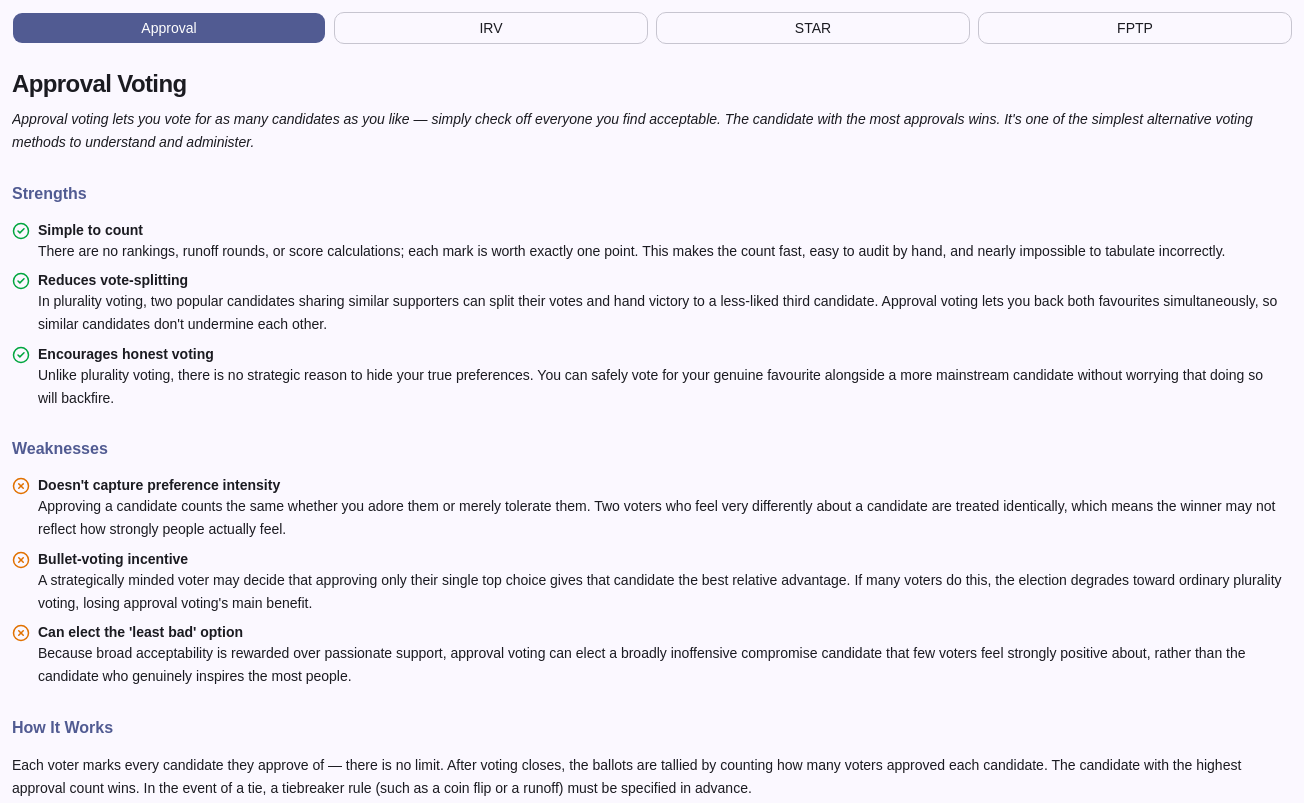
Test: #112 FPTP tab and deep linking › still self-manages the tab when embedded without props
Expected: the heading "Approval Voting" is shown, [12,70,187,97]
Click the tab "FPTP": (1135, 28) [978,12,1292,44]
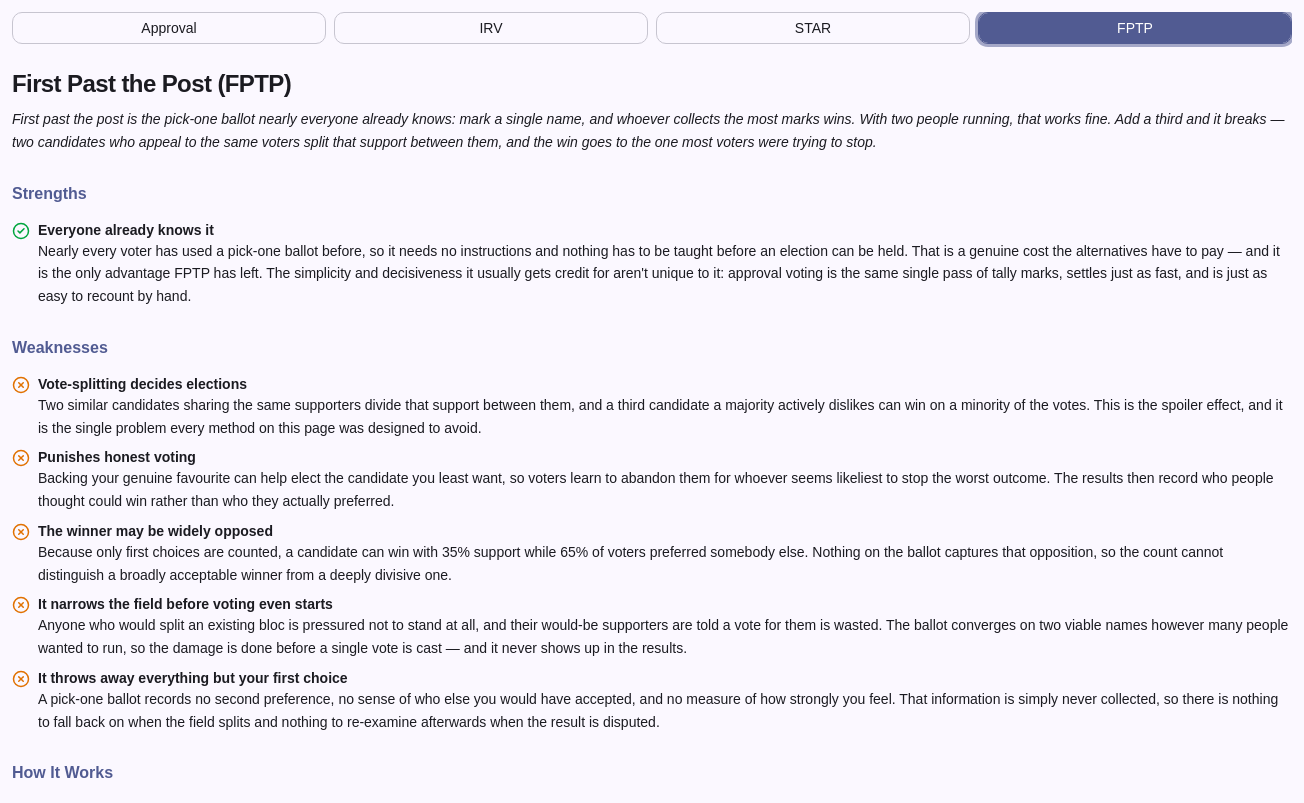
Expected: the heading "First Past the Post (FPTP)" is shown, [12,70,291,97]
